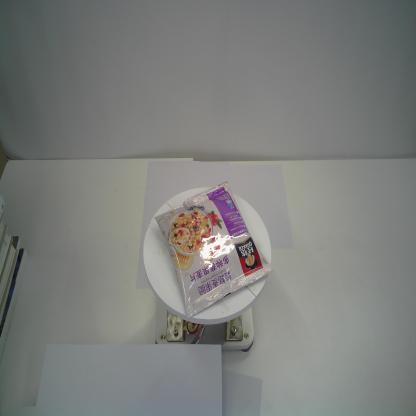Instant Drink: (154, 180, 274, 320)
